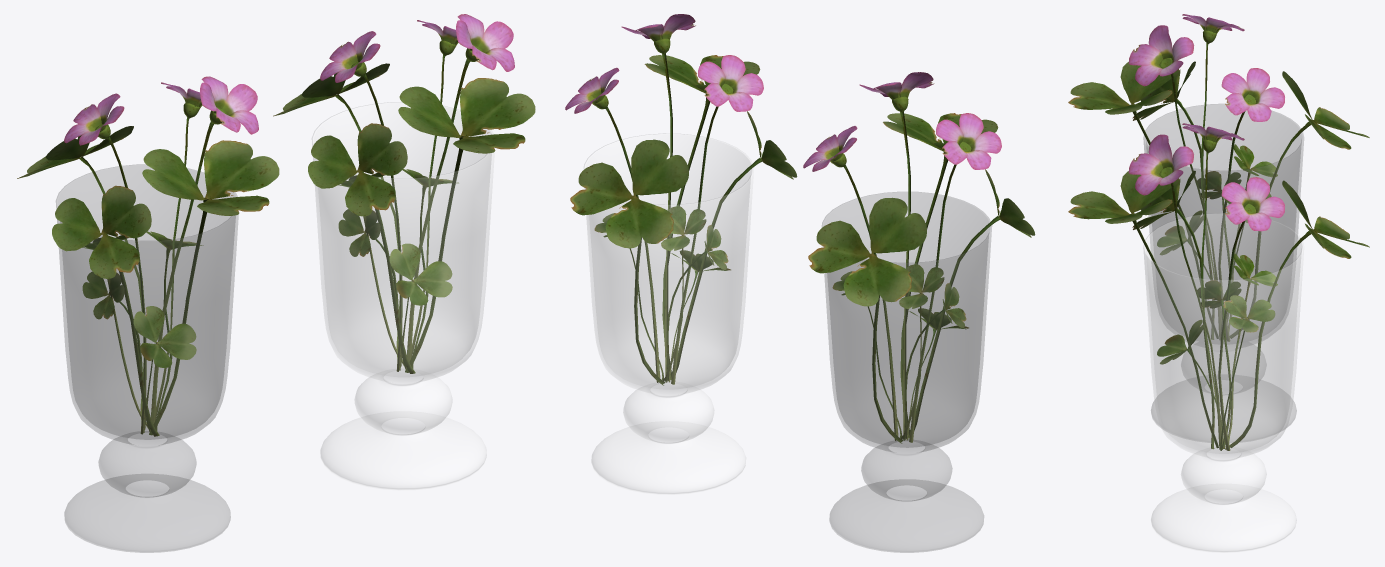
Rendered from vase.glb.
3 renders of one model, left to right at view 1: azimuth 30°, elevation 25°; view 2: azimuth 150°, elevation 25°; view 3: azimuth 270°, elevation 25°, orthographic. The views are drawn at different scales.
Parts seen in each view (by area): view 1: GlassAlpha, GlassTransmission, Flowers2, Flowers1; view 2: GlassAlpha, GlassTransmission, Flowers2, Flowers1; view 3: GlassTransmission, GlassAlpha, Flowers2, Flowers1.
Part boxes in pixels (<box>): GlassAlpha: <box>56,164,238,552</box>; GlassTransmission: <box>312,102,494,490</box>; Flowers2: <box>273,14,535,373</box>; Flowers1: <box>17,76,279,436</box>; GlassAlpha: <box>822,192,991,552</box>; GlassTransmission: <box>584,133,753,494</box>; Flowers2: <box>565,14,797,385</box>; Flowers1: <box>803,72,1035,443</box>; GlassTransmission: <box>1143,213,1303,552</box>; GlassAlpha: <box>1143,104,1303,442</box>; Flowers2: <box>1068,123,1369,450</box>; Flowers1: <box>1068,14,1369,341</box>.
Bounding box in the file's own units: 0.2173 × 0.2032 × 0.1425.
Materials: 3 (1 with a texture image).
